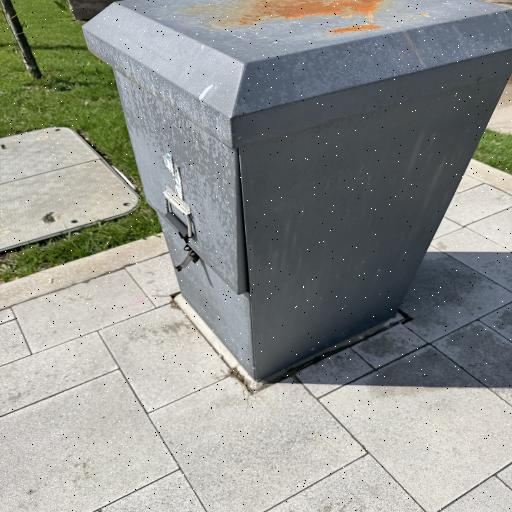Electrical Box: (78, 0, 511, 380)
